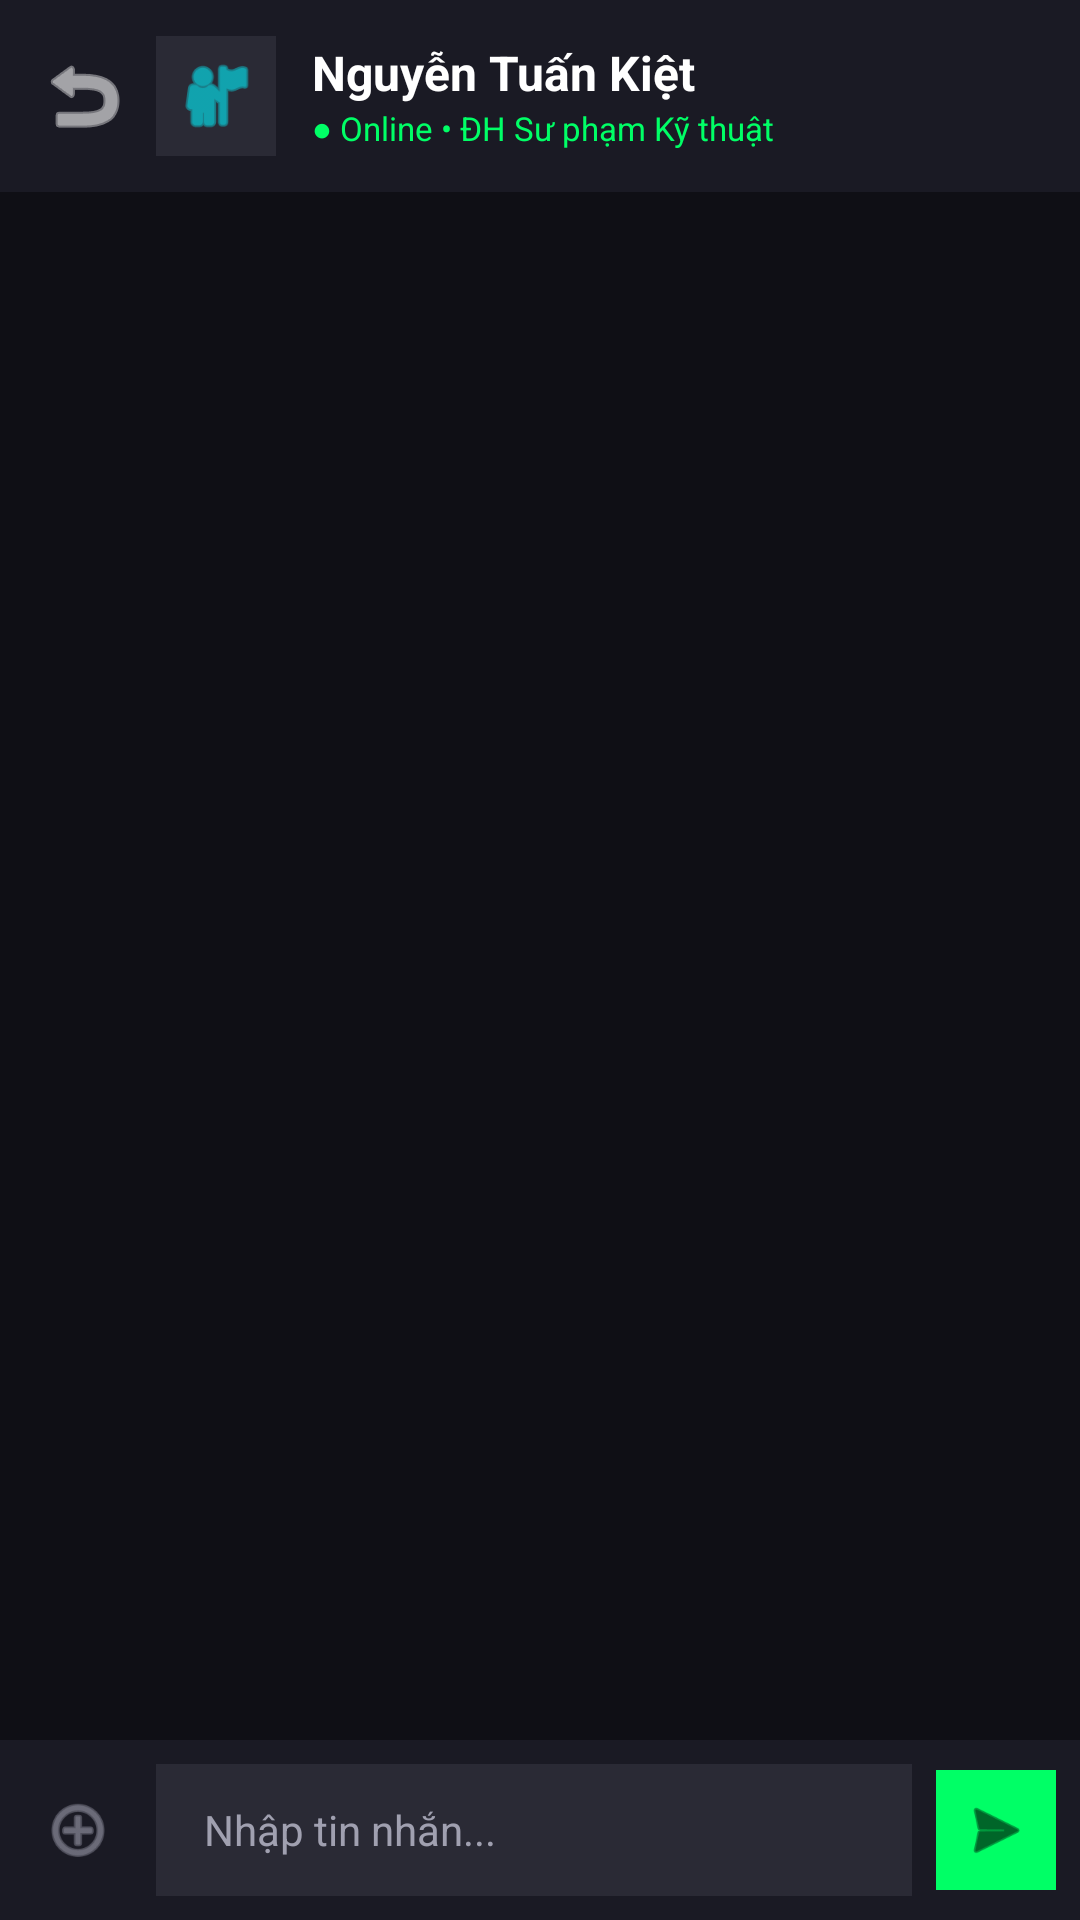

Point at icon controls on the screen. Image size 1080x1920, points as point (x, y).
add: point (78, 1830)
myplaces: point (217, 96)
revert: point (85, 96)
send: point (996, 1830)
